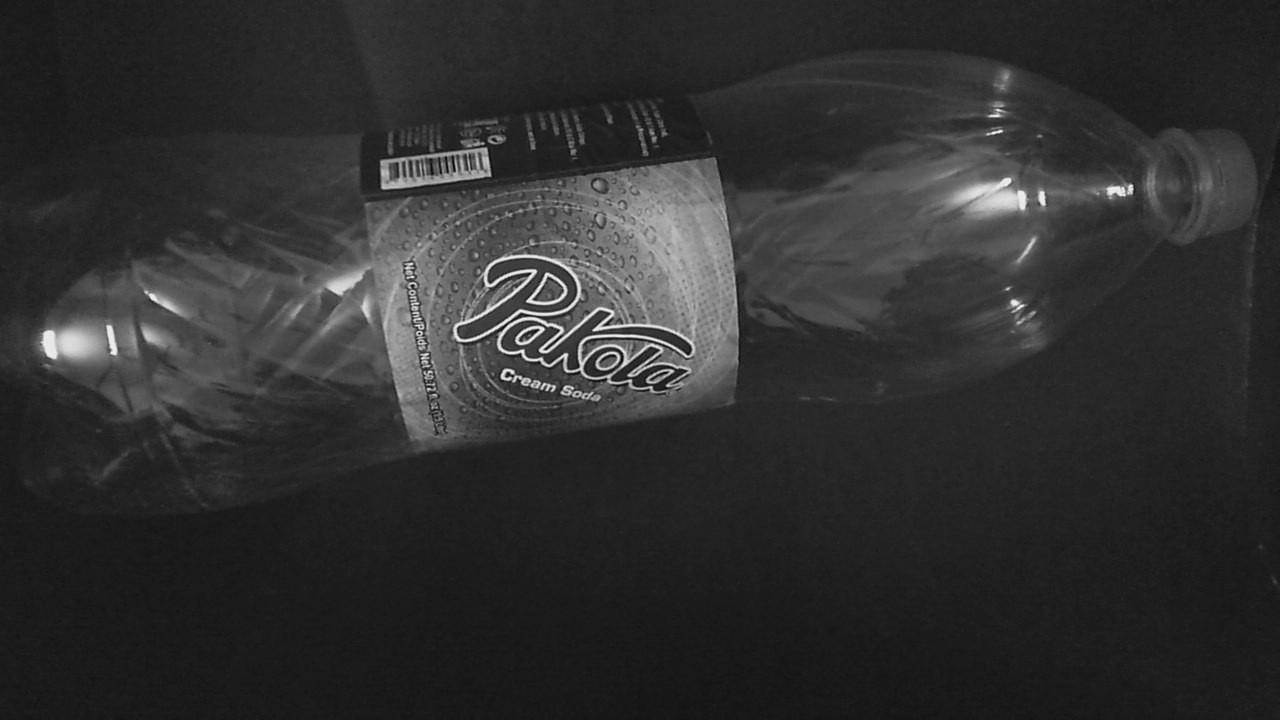bottle: (7, 35, 1263, 546)
